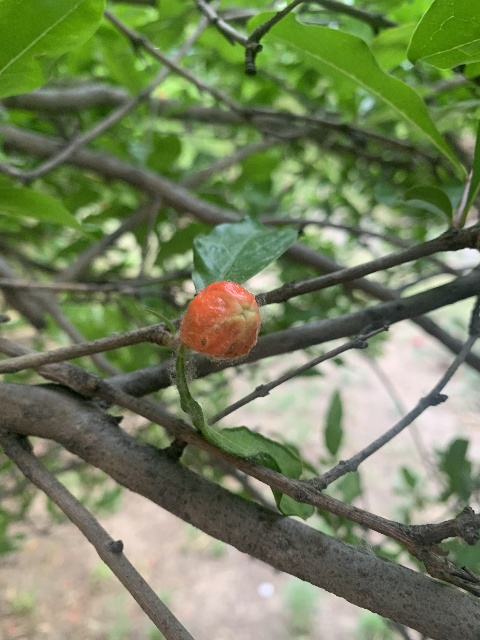bud: (180, 281, 260, 360)
